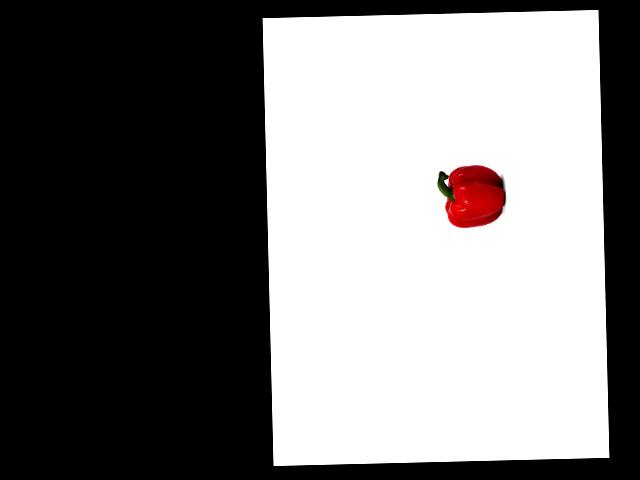bell_pepper: (435, 162, 505, 232)
